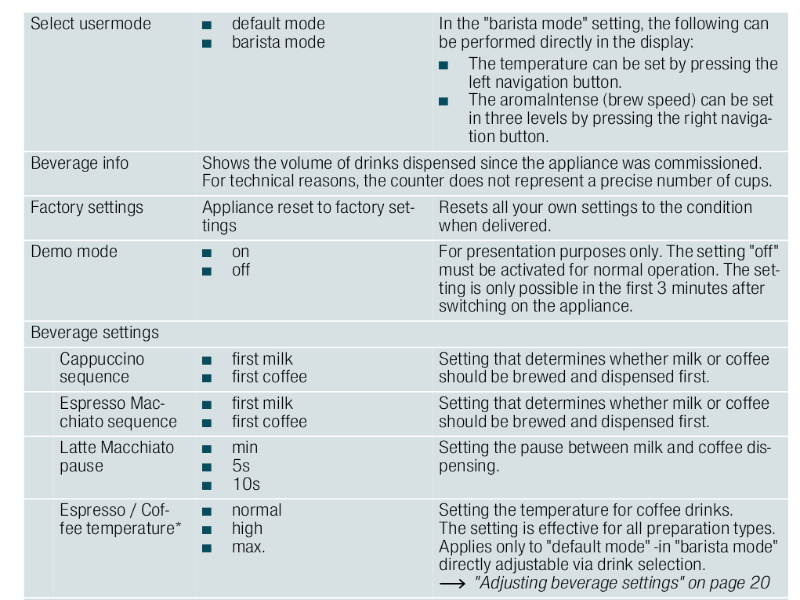borderless: (14, 8, 796, 600)
cell: (436, 16, 784, 147), (433, 501, 789, 591), (434, 245, 789, 318), (198, 155, 785, 191), (433, 438, 787, 491), (432, 199, 787, 238), (432, 394, 788, 432), (434, 350, 787, 388), (195, 438, 429, 493), (197, 503, 427, 557), (27, 501, 190, 554), (26, 439, 190, 491), (197, 244, 423, 281), (198, 199, 422, 236), (199, 396, 427, 432), (197, 351, 427, 386), (27, 323, 346, 344), (26, 395, 189, 432), (198, 16, 354, 53), (26, 352, 188, 386), (25, 13, 181, 39), (27, 198, 155, 225), (28, 153, 149, 174), (28, 243, 123, 262)
